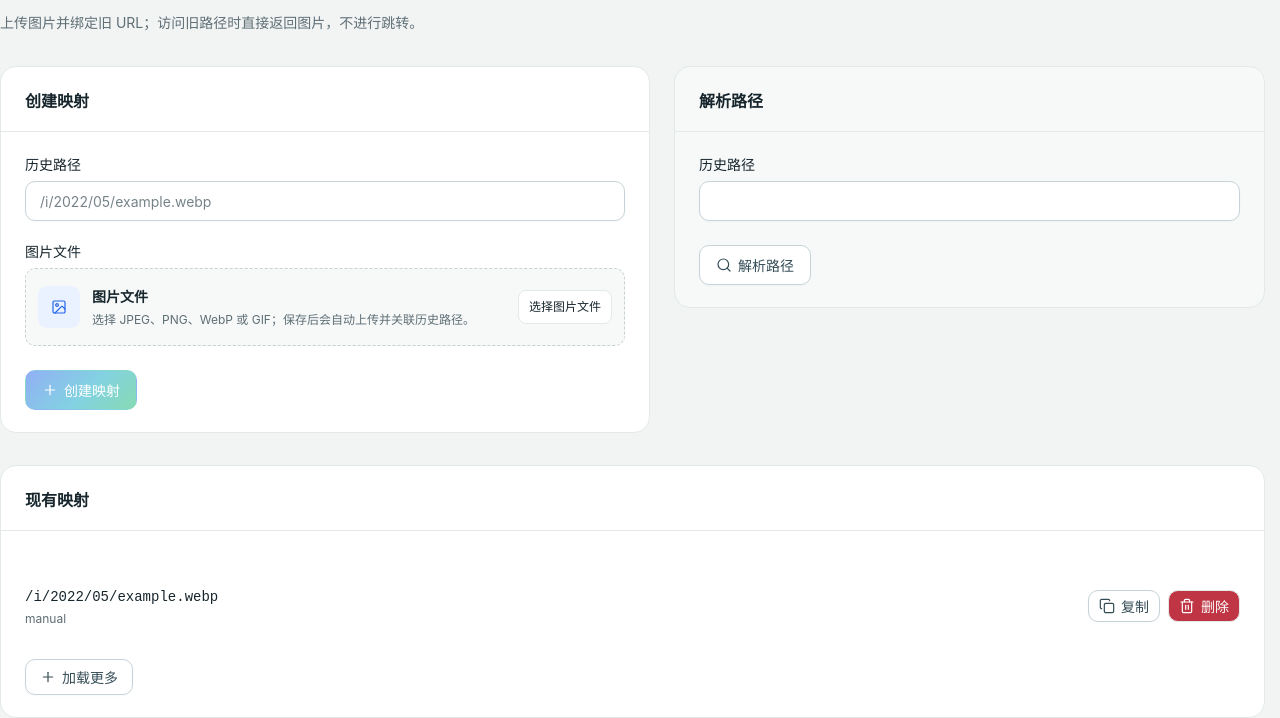
Test: AliasPage › loads aliases beyond the first 100-item cursor page
(page scrolled)
Check: the text "/i/2022/05/example.webp" is shown, box [25,589,218,605]
Click the button "加载更多" at (79, 677), box [25,659,133,695]
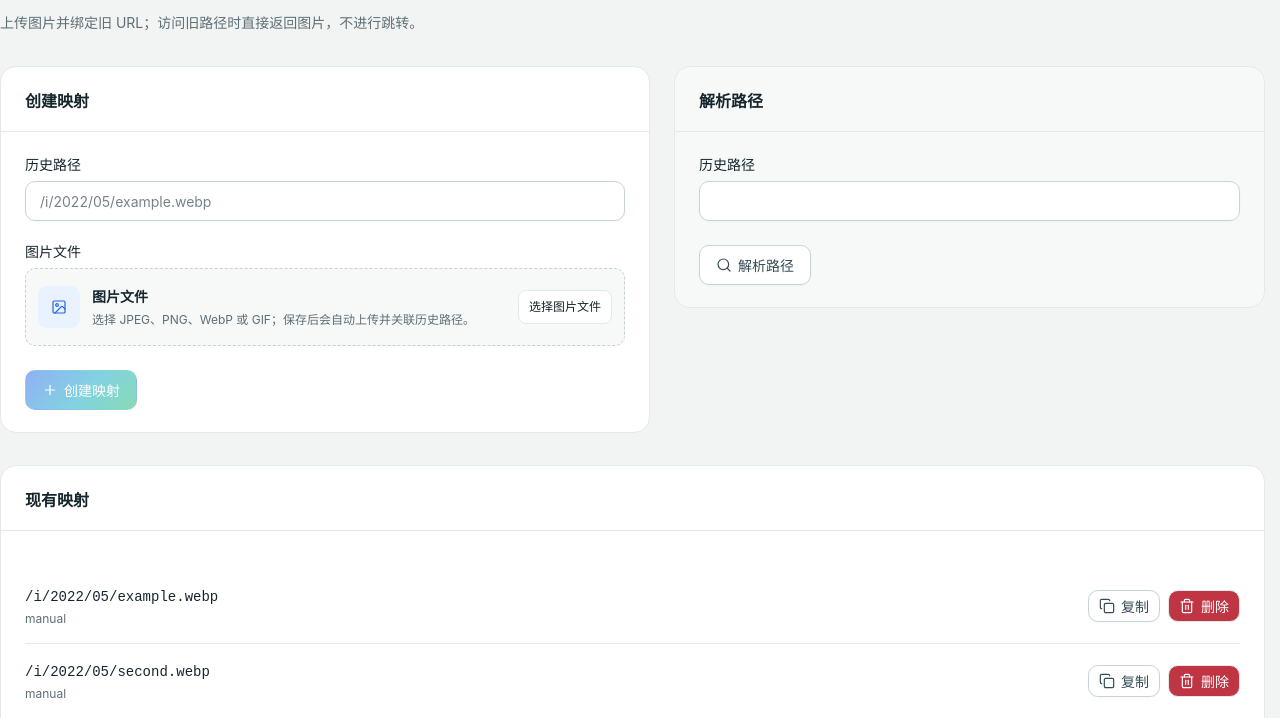
Check: the text "/i/2022/05/second.webp" is shown, box [25,664,210,680]
